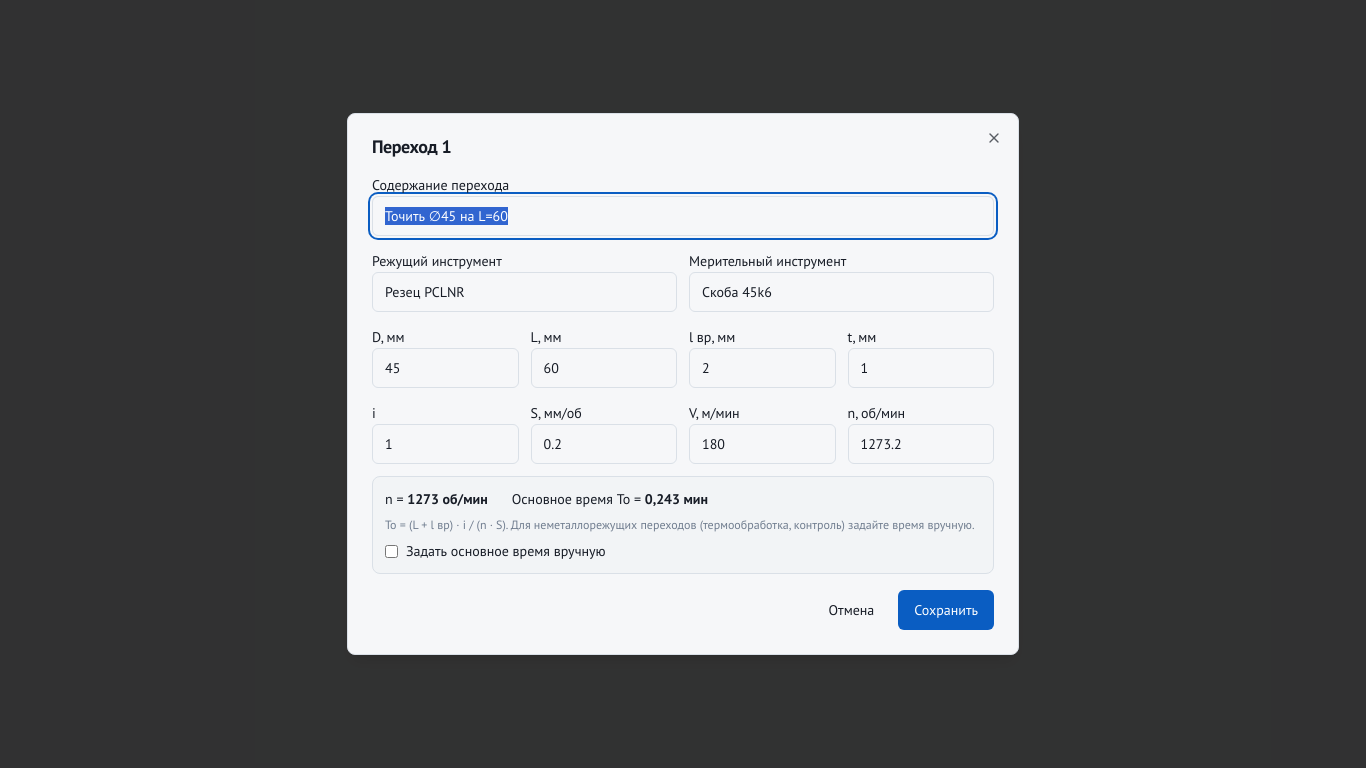
Scenario: Форма перехода › показывает ошибку сервера и не закрывается
Click the button "Сохранить" at coordinates (946, 610), box [898,590,994,630]
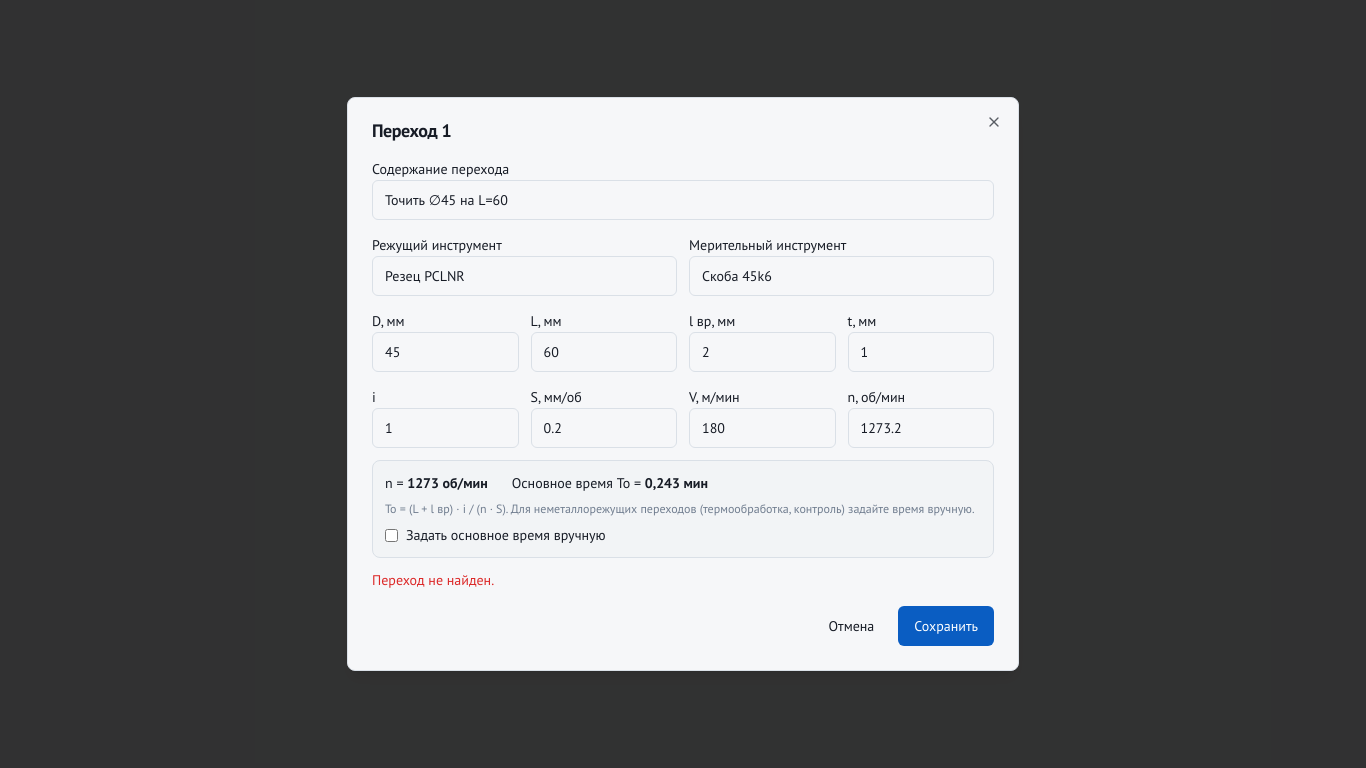
Now the text "Переход не найден." is shown, box [372,571,494,589]
